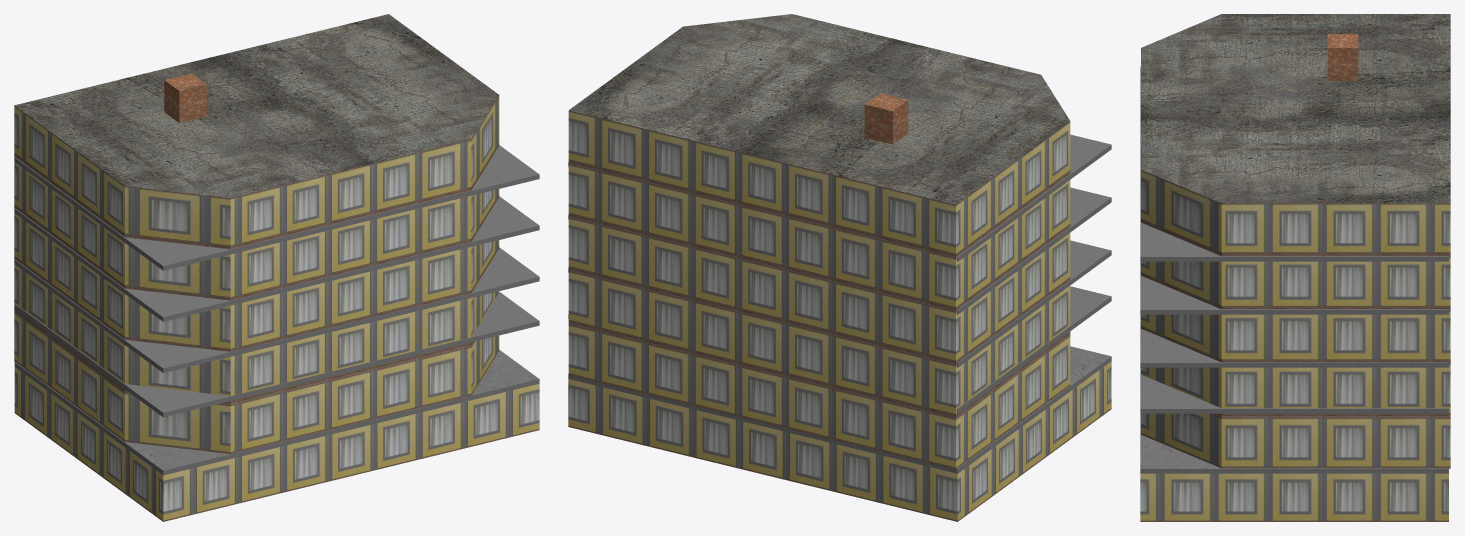
File: LOD01_Building_6stores_Residential.obj
3 views of the same model, side by side, from view 1: azimuth 30°, elevation 25°; view 2: azimuth 150°, elevation 25°; view 3: azimuth 270°, elevation 25° (orthographic). The views are drawn at different scales.
Visible parts, largest first — view 1: LOD01_Building_6stores_Residential; view 2: LOD01_Building_6stores_Residential; view 3: LOD01_Building_6stores_Residential.
Part boxes in pixels (<box>): LOD01_Building_6stores_Residential: <box>14,14,539,521</box>; LOD01_Building_6stores_Residential: <box>568,14,1111,521</box>; LOD01_Building_6stores_Residential: <box>1140,14,1450,521</box>.
Size of the model in its own units: 8.33 by 7.18 by 5.74.
